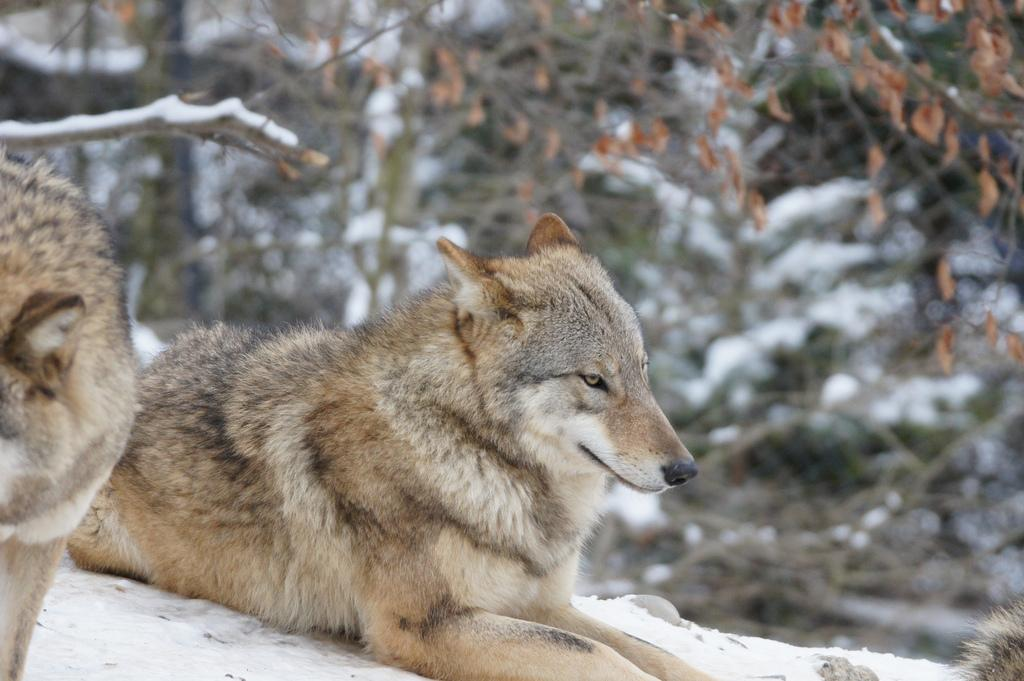Wolf: (67, 217, 744, 681), (3, 159, 142, 681)
